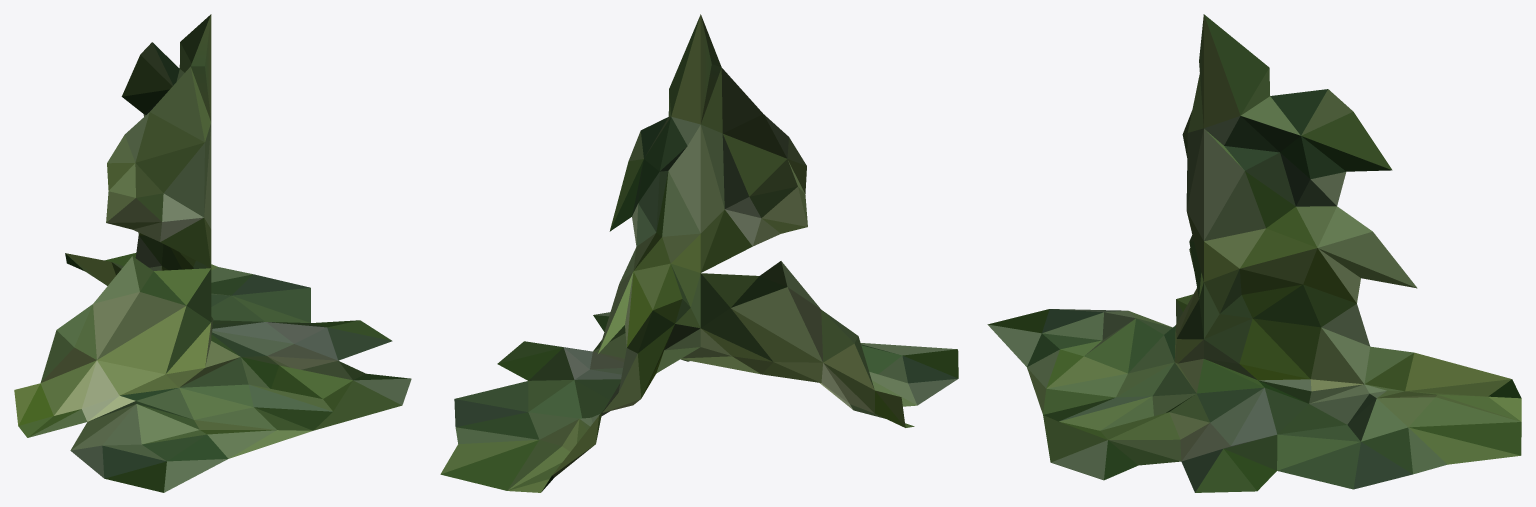
Rendered from Decal_IvyCorner-C.fbx.
3 views of the same model, side by side, from view 1: azimuth 30°, elevation 25°; view 2: azimuth 150°, elevation 25°; view 3: azimuth 270°, elevation 25° (orthographic). The views are drawn at different scales.
Visible parts, largest first — view 1: Decal_IvyCorner-C; view 2: Decal_IvyCorner-C; view 3: Decal_IvyCorner-C.
Boxes of the visible parts, <box> form: Decal_IvyCorner-C: <box>14,14,411,492</box>; Decal_IvyCorner-C: <box>440,14,958,492</box>; Decal_IvyCorner-C: <box>987,14,1521,492</box>.
Size of the model in its own units: 594 by 557 by 695.
